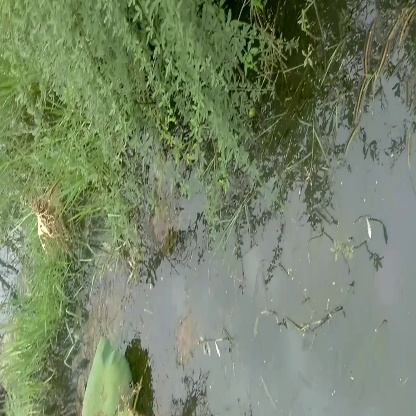leaf: (68, 337, 144, 416)
